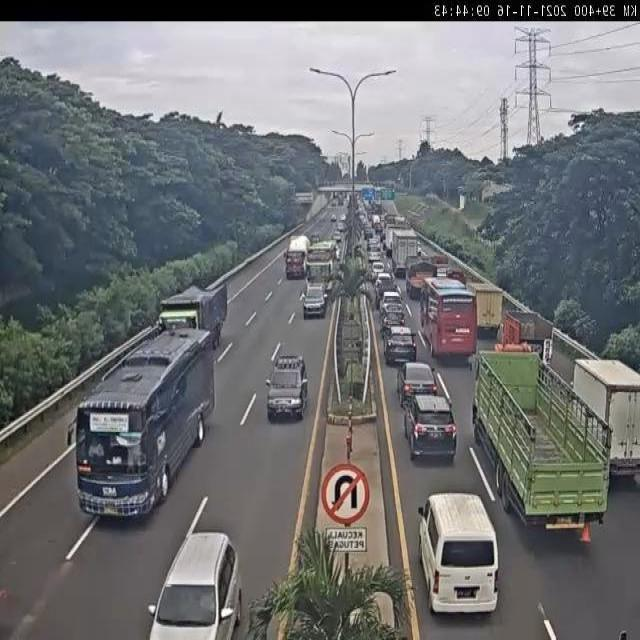Bus: (67, 327, 219, 519), (420, 275, 480, 359), (305, 238, 337, 292)
Car: (146, 529, 242, 639), (402, 392, 458, 462), (266, 352, 309, 420), (397, 361, 437, 410), (383, 326, 416, 365), (302, 282, 328, 318), (380, 300, 407, 332), (379, 289, 404, 309), (367, 243, 382, 263), (374, 271, 392, 287), (371, 260, 385, 275), (334, 243, 342, 260), (332, 231, 341, 243), (336, 222, 344, 233), (331, 214, 337, 222), (340, 214, 346, 222)
Truck: (469, 347, 613, 542), (570, 359, 640, 484), (156, 283, 228, 348), (500, 306, 552, 358), (467, 282, 504, 338), (390, 228, 420, 276), (284, 233, 310, 283), (406, 259, 436, 298), (384, 221, 400, 255)
Van: (416, 489, 502, 616)
